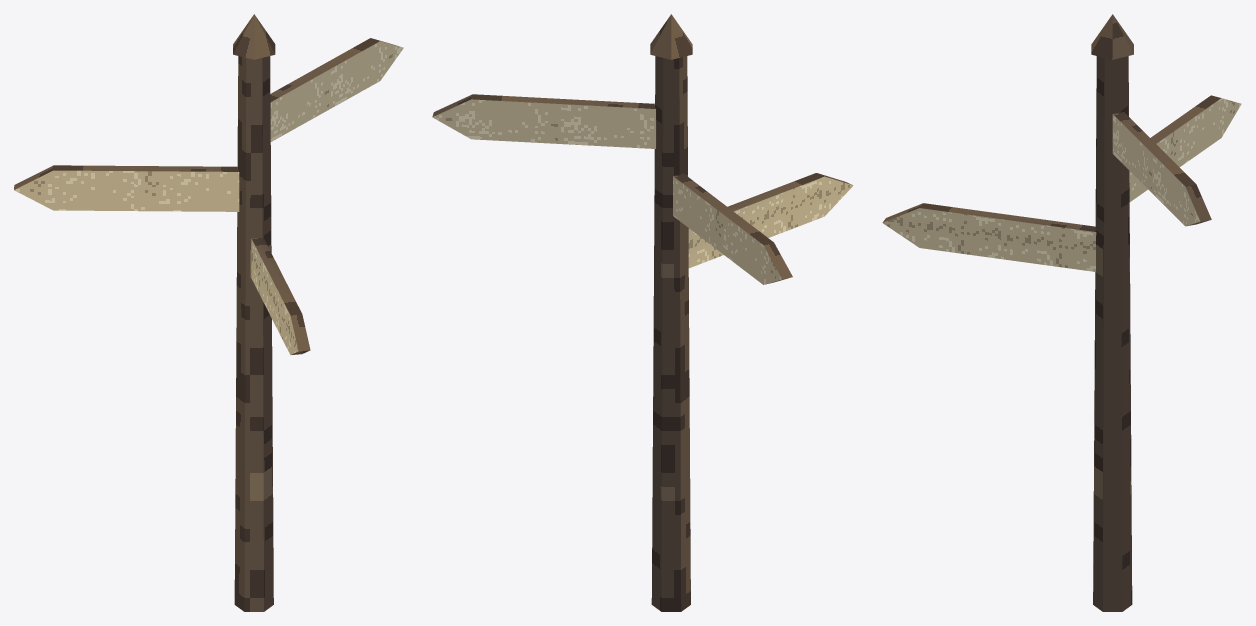
File: mprop.signpost.glb
The picture shows the model from 3 angles, left to right: view 1: azimuth 30°, elevation 25°; view 2: azimuth 150°, elevation 25°; view 3: azimuth 270°, elevation 25°; orthographic projection.
Visible parts, largest first — view 1: kit_post, kit_boards; view 2: kit_post, kit_boards; view 3: kit_post, kit_boards.
Part boxes in pixels (x1,y1,x2,y2): kit_post: [233, 14, 275, 611]; kit_boards: [14, 38, 403, 355]; kit_post: [650, 14, 692, 611]; kit_boards: [432, 94, 853, 284]; kit_post: [1091, 14, 1133, 611]; kit_boards: [882, 95, 1241, 271].
Bounding box in the file's own units: 1.77 × 2.66 × 1.47.
Materials: 2 (2 with a texture image).
